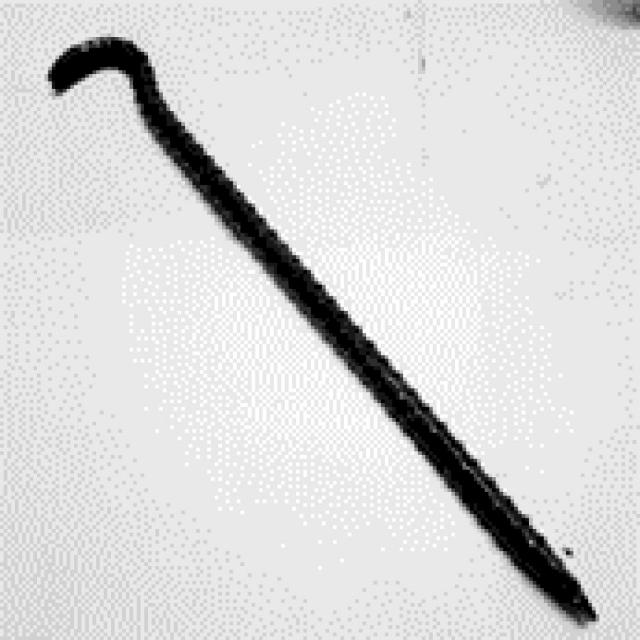crow bar: (38, 25, 608, 625)
